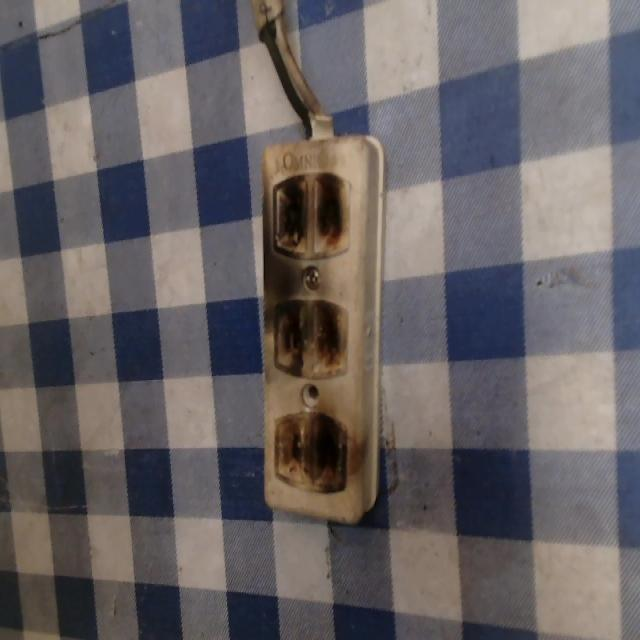-: (270, 165, 350, 259), (270, 408, 347, 493), (269, 298, 350, 378)
